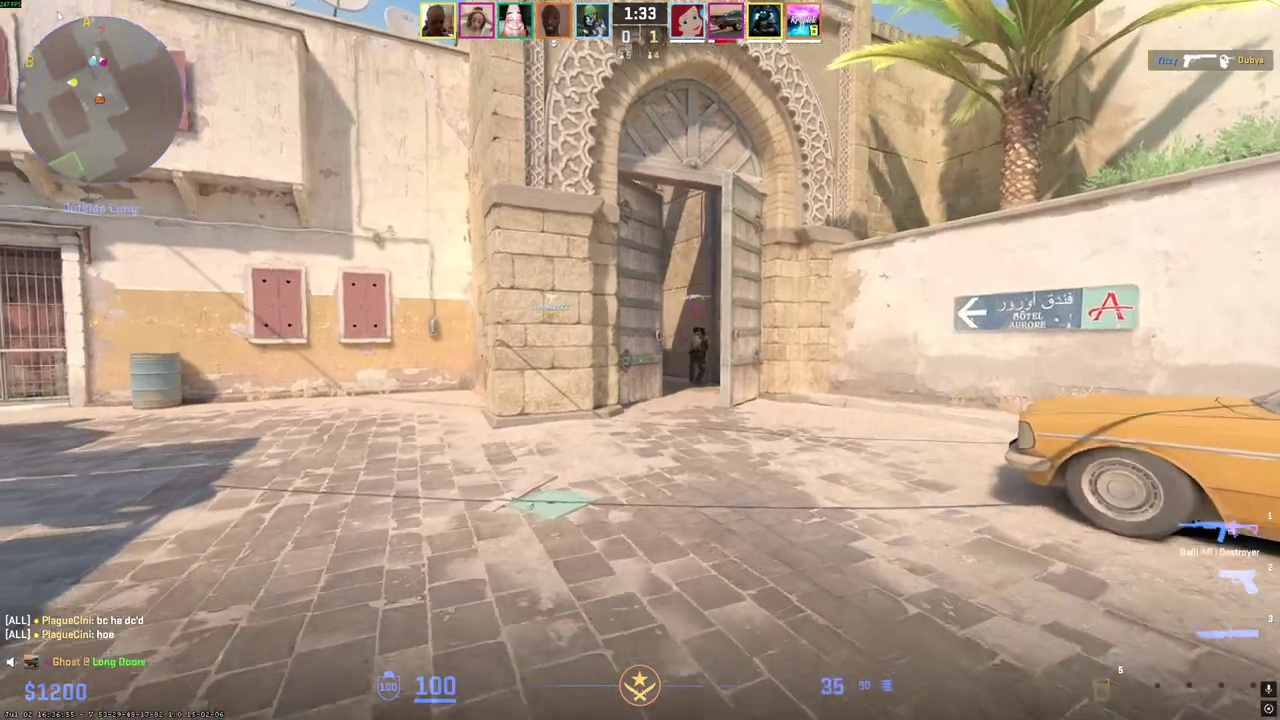Terrorist: (685, 326, 711, 386)
